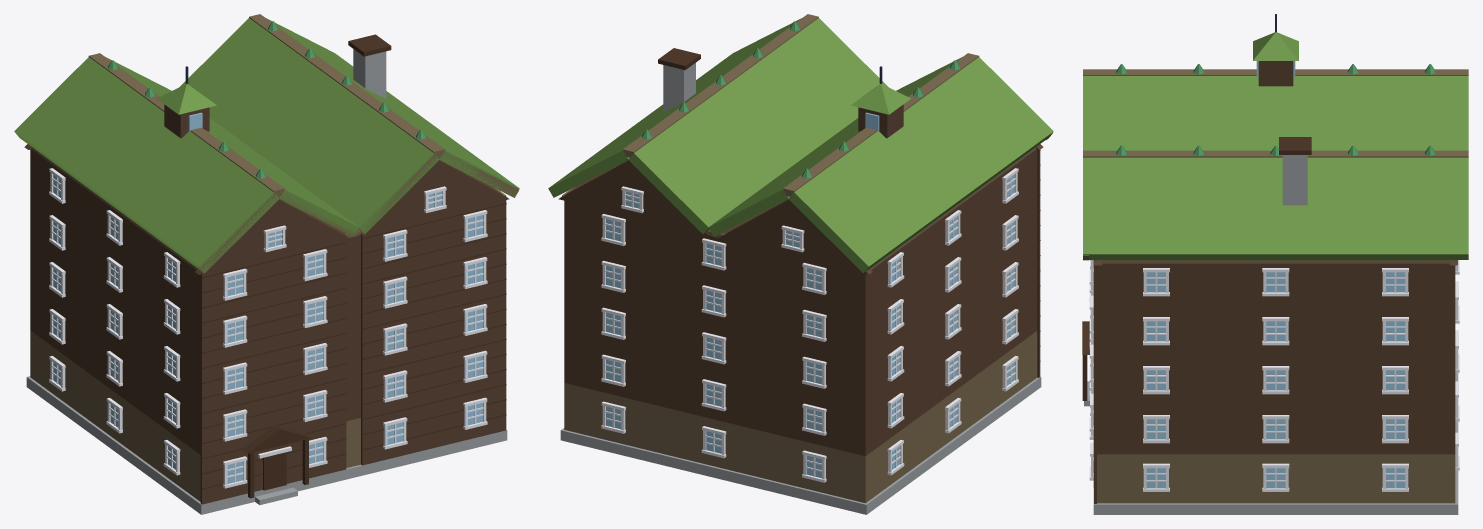
Rendered from house-2x2-5f-turf-a.glb.
3 views of the same model, side by side, from view 1: azimuth 30°, elevation 25°; view 2: azimuth 150°, elevation 25°; view 3: azimuth 270°, elevation 25° (orthographic). The views are drawn at different scales.
Visible parts, largest first — view 1: house-2x2-5f-turf-a; view 2: house-2x2-5f-turf-a; view 3: house-2x2-5f-turf-a.
Boxes of the visible parts, bbox=[...] form: house-2x2-5f-turf-a: bbox=[14, 14, 519, 514]; house-2x2-5f-turf-a: bbox=[548, 14, 1053, 514]; house-2x2-5f-turf-a: bbox=[1082, 14, 1468, 514].
Bounding box in the file's own units: 2 × 2.19 × 2.
Materials: 1 (1 with a texture image).
